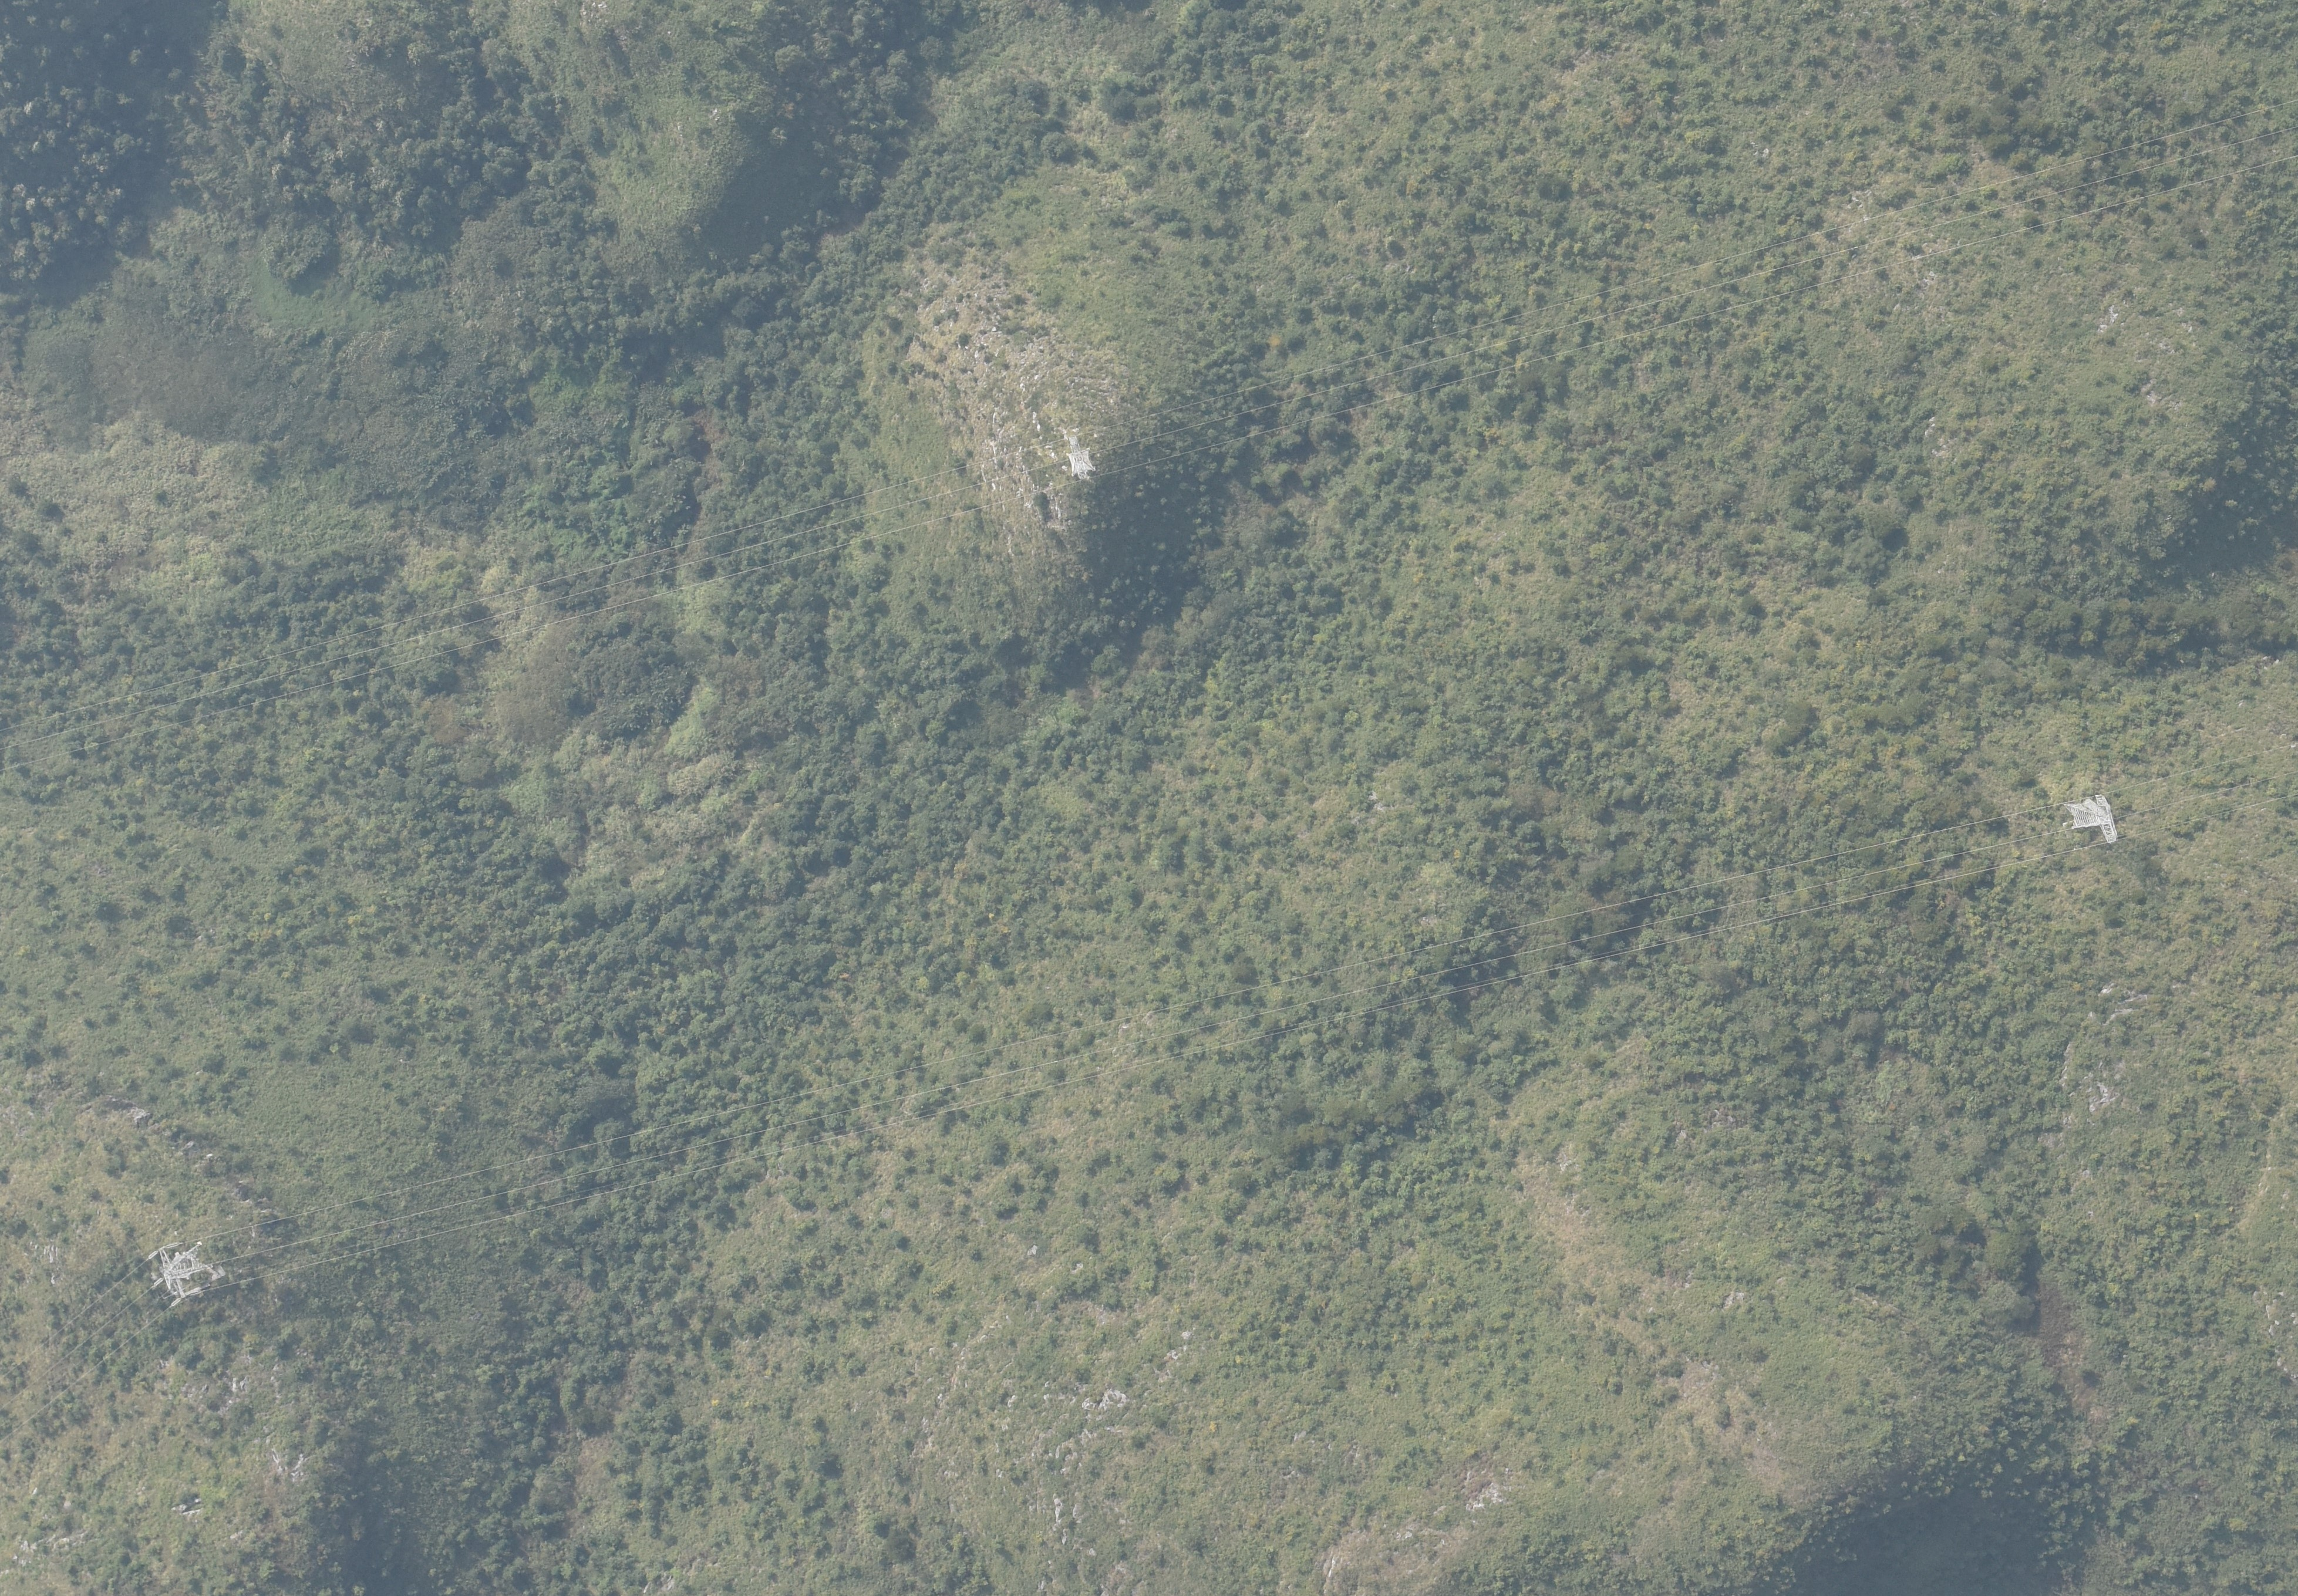cable-tower: (148, 1240, 225, 1306), (2064, 793, 2116, 843), (1065, 435, 1095, 480)
